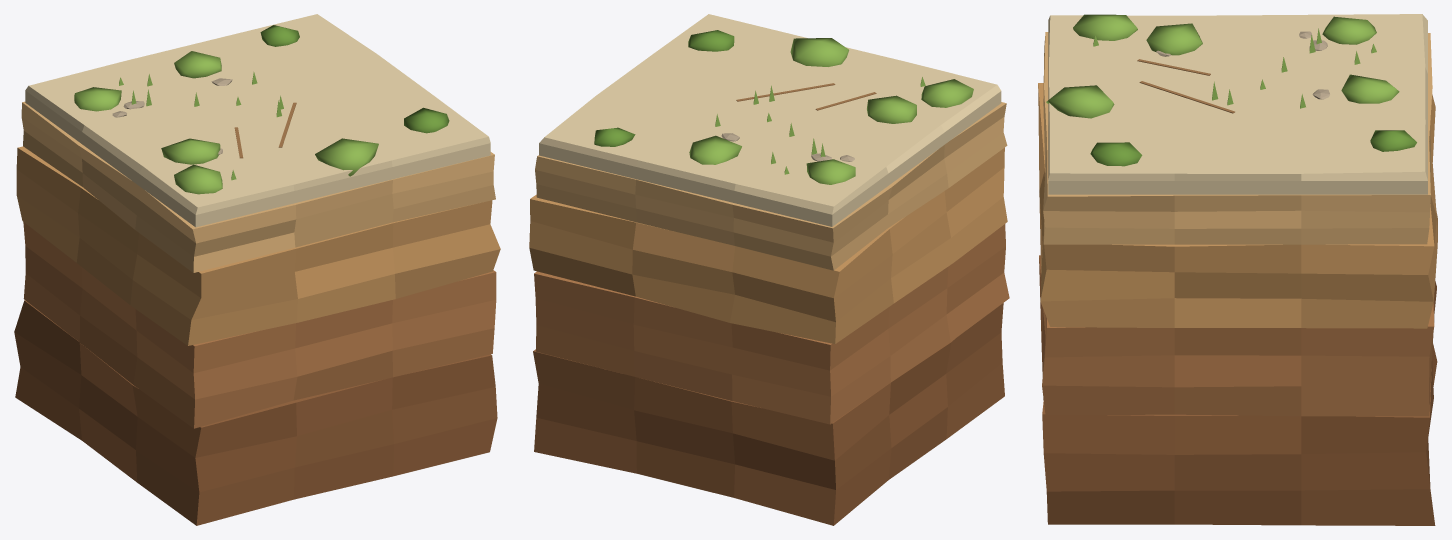
Rendered from cliff_b.glb.
3 views of the same model, side by side, from view 1: azimuth 30°, elevation 25°; view 2: azimuth 150°, elevation 25°; view 3: azimuth 270°, elevation 25° (orthographic). The views are drawn at different scales.
Parts seen in each view (by area): view 1: cliff_b; view 2: cliff_b; view 3: cliff_b.
Part boxes in pixels (x1,y1,x2,y2): cliff_b: (14, 14, 500, 525); cliff_b: (529, 14, 1009, 525); cliff_b: (1038, 14, 1437, 525).
Bounding box in the file's own units: 1.06 × 1.07 × 1.05.
